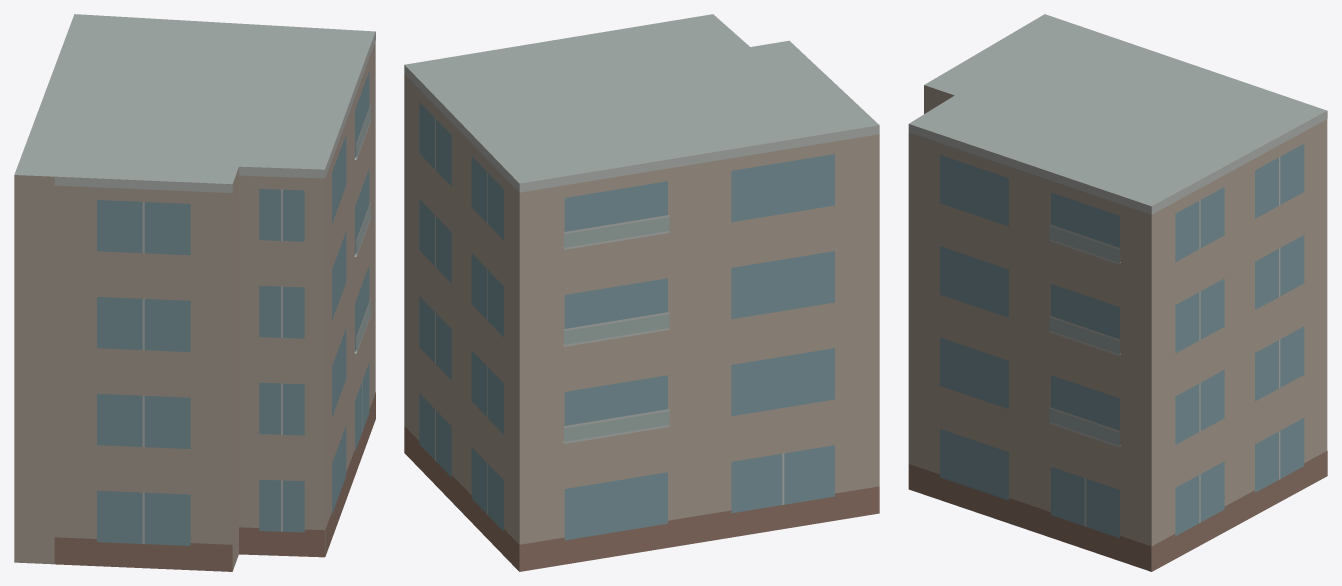
The model's file is survey-upis-33016604.glb.
3 renders of one model, left to right at view 1: azimuth 30°, elevation 25°; view 2: azimuth 150°, elevation 25°; view 3: azimuth 270°, elevation 25°, orthographic. The views are drawn at different scales.
Parts seen in each view (by area): view 1: survey-upis-33016604.tmp; view 2: survey-upis-33016604.tmp; view 3: survey-upis-33016604.tmp.
Boxes of the visible parts, x1,y1,x2,y2 form: survey-upis-33016604.tmp: [14, 14, 375, 571]; survey-upis-33016604.tmp: [404, 14, 879, 571]; survey-upis-33016604.tmp: [908, 14, 1327, 571].
Size of the model in its own units: 11.97 by 10.6 by 11.01.
